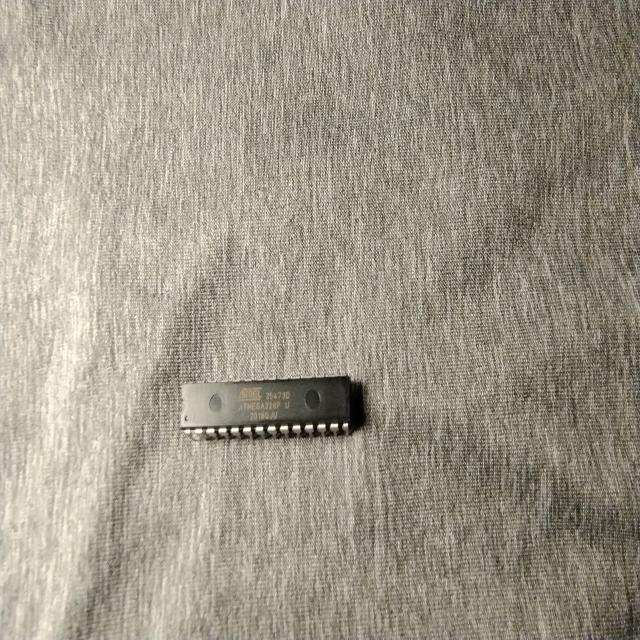atmega: (178, 373, 353, 443)
